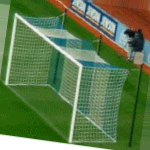goals: (3, 11, 127, 145)
